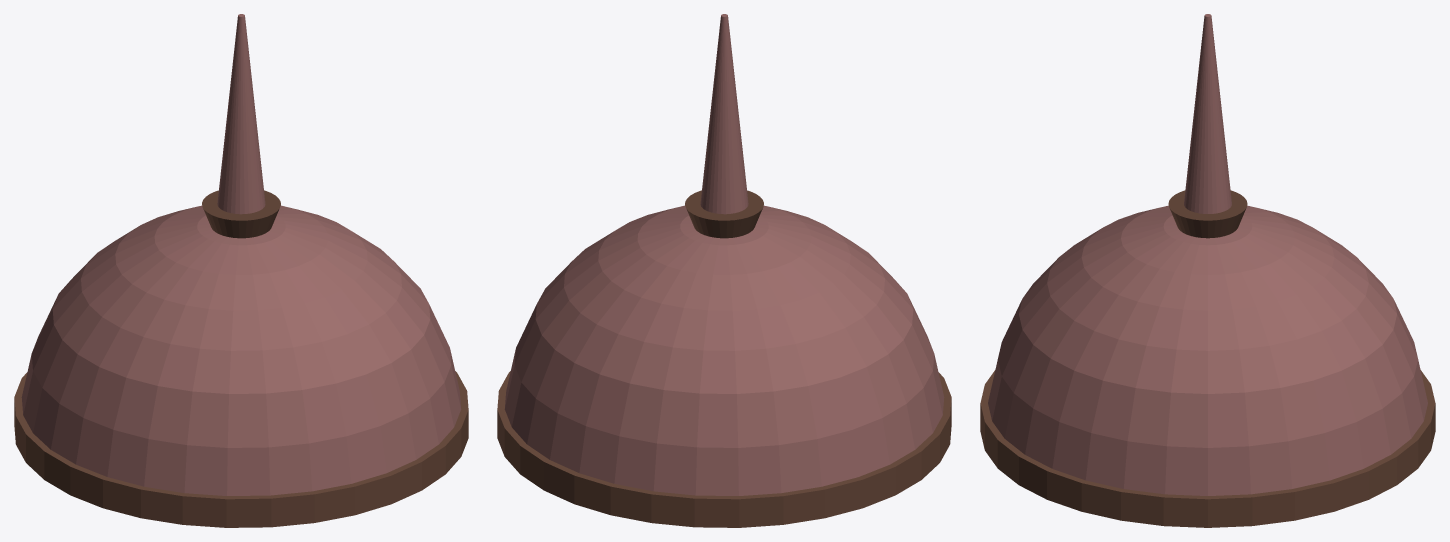
Rendered from OilDropper.fbx.
The picture shows the model from 3 angles, left to right: view 1: azimuth 30°, elevation 25°; view 2: azimuth 150°, elevation 25°; view 3: azimuth 270°, elevation 25°; orthographic projection.
Visible parts, largest first — view 1: Cylinder.002; view 2: Cylinder.002; view 3: Cylinder.002.
Boxes of the visible parts, x1,y1,x2,y2 form: Cylinder.002: (14,14,468,527); Cylinder.002: (497,14,951,527); Cylinder.002: (980,14,1435,527).
Size of the model in its own units: 200 by 202 by 200.
